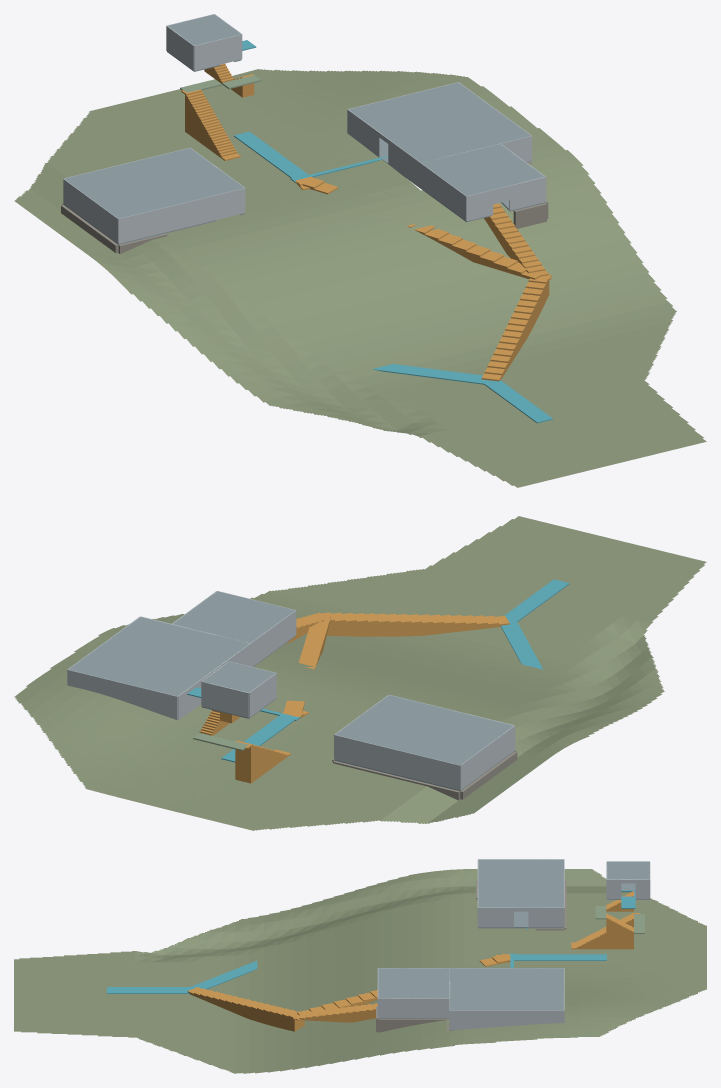
File: opened-stairs.glb
3 renders of one model, top to bottom at view 1: azimuth 30°, elevation 25°; view 2: azimuth 150°, elevation 25°; view 3: azimuth 270°, elevation 25°, orthographic. The views are drawn at different scales.
Parts seen in each view (by area): view 1: Saved editor occupied-room terrain WLD-04, Ceiling cap ruin, Ceiling cap hut, Ceiling cap store, Wall hut S, Opened stair shell Wall store S, Wall hut W, Ceiling cap cab, Wall cab S, Wall store W, L02 support 0, Wall ruin W (+2 smaller); view 2: Saved editor occupied-room terrain WLD-04, Ceiling cap ruin, Ceiling cap hut, Ceiling cap store, Wall hut N, Wall ruin N, Wall hut W, Ceiling cap cab, Wall cab N, Wall store W, L02 support 0, Wall cab W (+3 smaller); view 3: Saved editor occupied-room terrain WLD-04, Ceiling cap ruin, Ceiling cap hut, Ceiling cap store, Wall ruin E, Wall store E, Ceiling cap cab, Wall hut E, Wall hut E.001, L02 support 0.
Part boxes in pixels (x1=…): Saved editor occupied-room terrain WLD-04: x1=14, y1=69, x2=706, y2=487; Ceiling cap ruin: x1=348, y1=82, x2=530, y2=162; Ceiling cap hut: x1=64, y1=148, x2=243, y2=218; Ceiling cap store: x1=421, y1=144, x2=544, y2=195; Wall hut S: x1=118, y1=188, x2=245, y2=243; Opened stair shell Wall store S: x1=466, y1=177, x2=545, y2=220; Wall hut W: x1=63, y1=179, x2=118, y2=243; Ceiling cap cab: x1=168, y1=14, x2=241, y2=45; Wall cab S: x1=194, y1=34, x2=241, y2=70; Wall store W: x1=420, y1=163, x2=466, y2=220; L02 support 0: x1=372, y1=364, x2=489, y2=384; Wall ruin W: x1=347, y1=109, x2=380, y2=157; Saved editor occupied-room terrain WLD-04: x1=14, y1=516, x2=706, y2=830; Ceiling cap ruin: x1=68, y1=617, x2=249, y2=696; Ceiling cap hut: x1=335, y1=695, x2=513, y2=765; Ceiling cap store: x1=173, y1=591, x2=294, y2=643; Wall hut N: x1=334, y1=735, x2=460, y2=790; Wall ruin N: x1=67, y1=669, x2=177, y2=720; Wall hut W: x1=460, y1=725, x2=515, y2=789; Ceiling cap cab: x1=202, y1=661, x2=275, y2=692; Wall cab N: x1=201, y1=681, x2=248, y2=717; Wall store W: x1=250, y1=610, x2=296, y2=666; L02 support 0: x1=500, y1=620, x2=543, y2=669; Wall cab W: x1=249, y1=673, x2=276, y2=717; Saved editor occupied-room terrain WLD-04: x1=14, y1=869, x2=706, y2=1073; Ceiling cap ruin: x1=449, y1=968, x2=563, y2=1010; Ceiling cap hut: x1=478, y1=859, x2=563, y2=907; Ceiling cap store: x1=378, y1=968, x2=449, y2=998; Wall ruin E: x1=449, y1=1010, x2=563, y2=1029; Wall store E: x1=378, y1=998, x2=449, y2=1017; Ceiling cap cab: x1=607, y1=861, x2=649, y2=879; Wall hut E: x1=528, y1=907, x2=563, y2=927; Wall hut E.001: x1=478, y1=907, x2=513, y2=927; L02 support 0: x1=191, y1=960, x2=257, y2=989.
Size of the model in its own units: 59 by 19.15 by 97.
